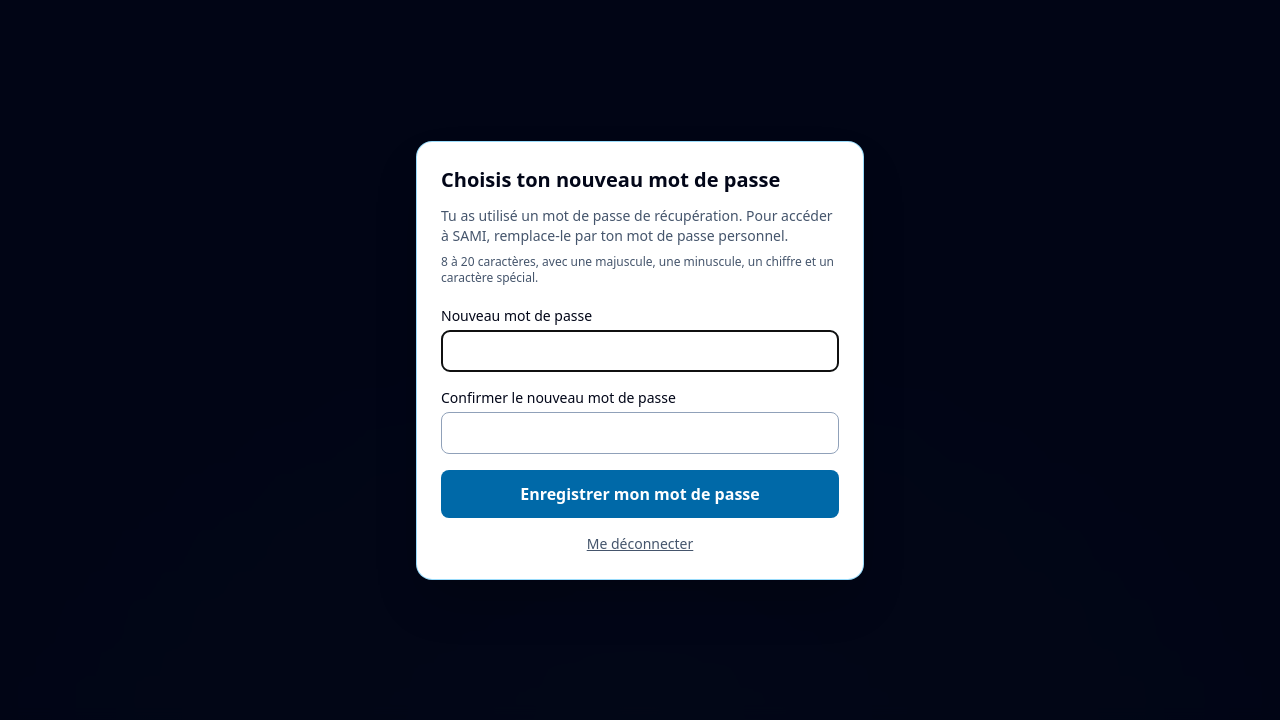
Test case: conserve la modale après un refus du serveur
Type "Personal-123!" into the password field labelled "Nouveau mot de passe" at (640, 350), box [441,330,839,372]
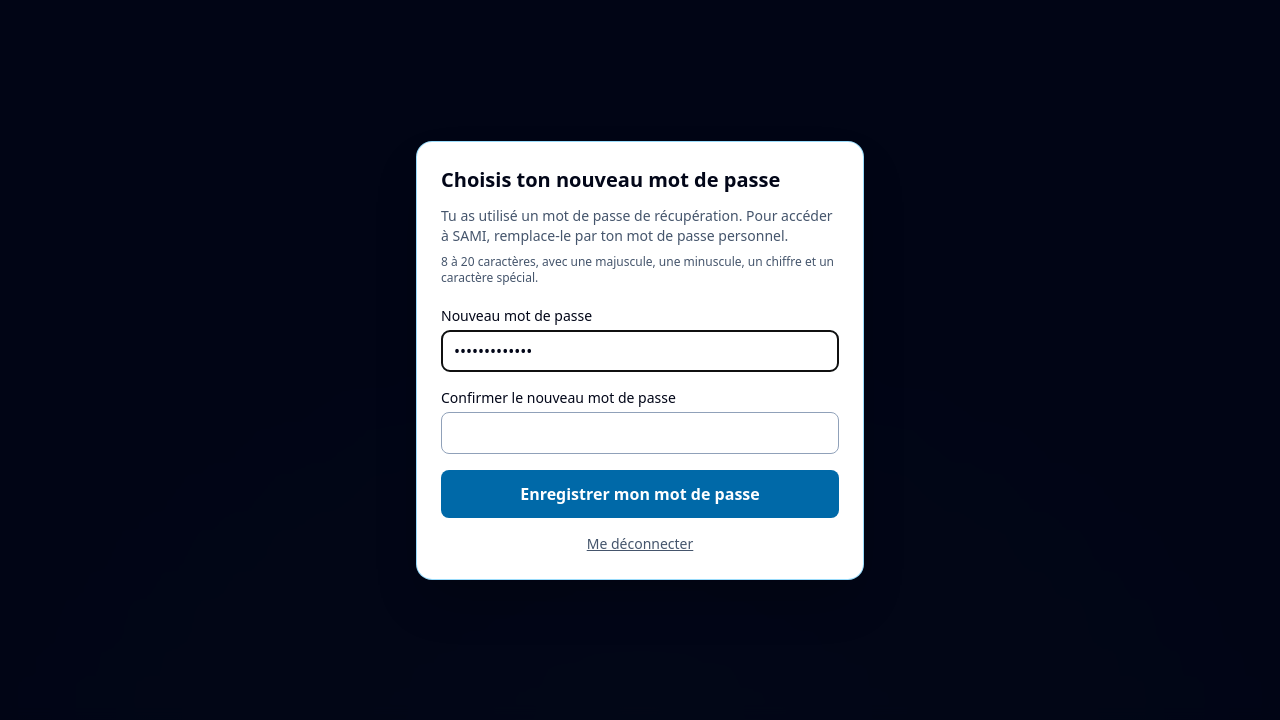
Type "Personal-123!" into the password field labelled "Confirmer le nouveau mot de passe" at (640, 432), box [441,412,839,454]
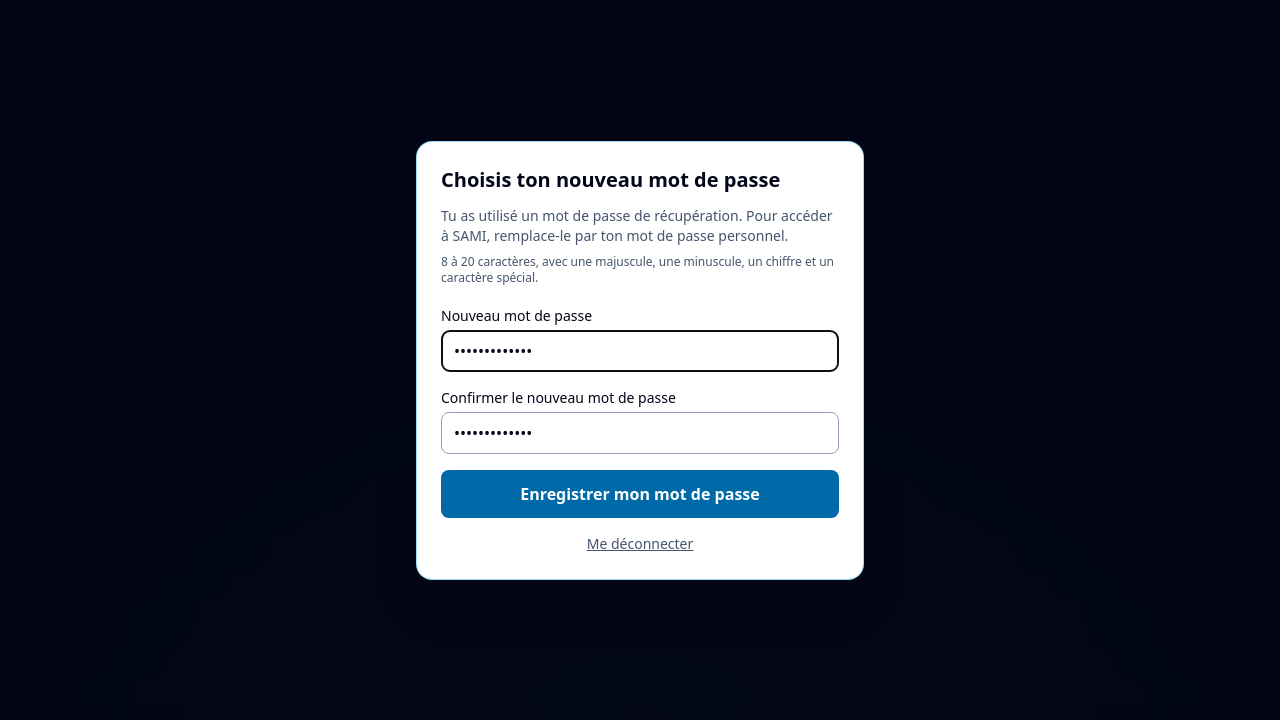
Submit the form named "Enregistrer mon mot de passe", box [441,306,839,518]
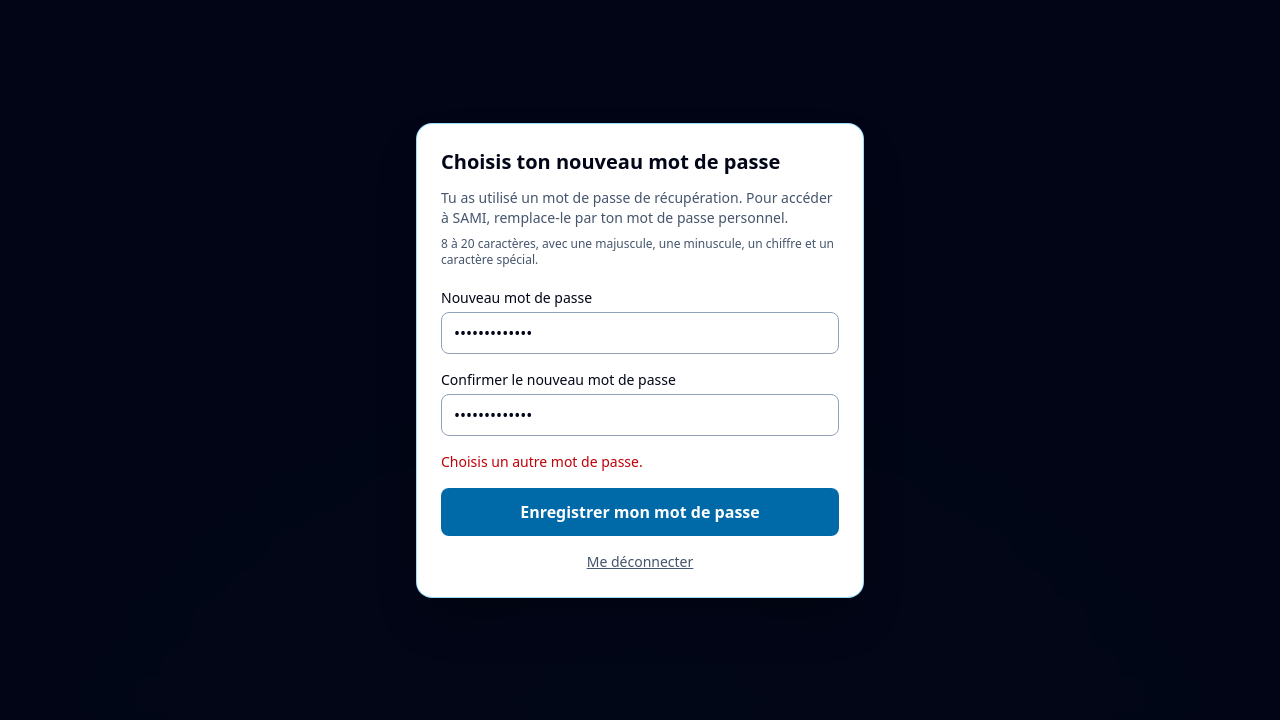
Now the message reads "Choisis un autre mot de passe.", box [441,452,643,470]
